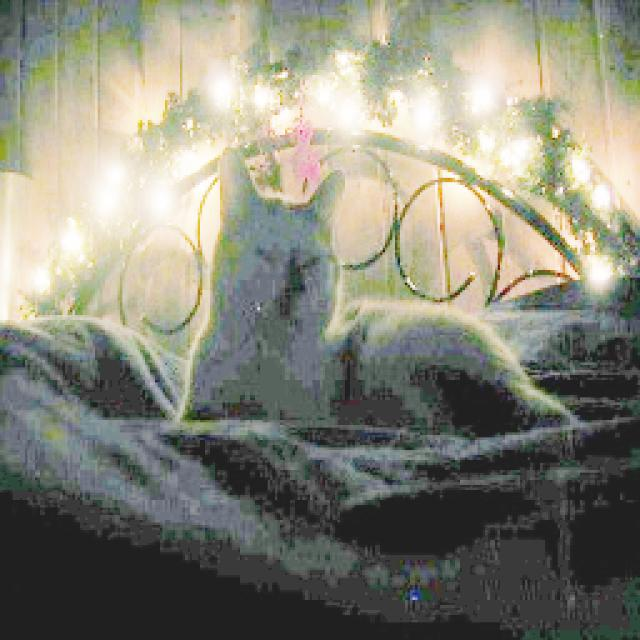cat: (174, 144, 581, 441)
